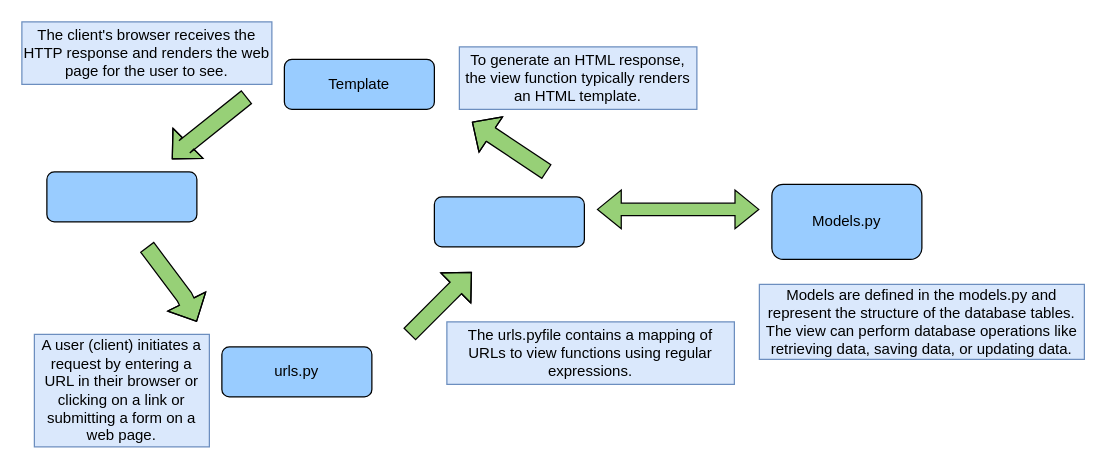
Some shapes in this 1106 by 469 pixel diagram are drawn without their labels. Each missing label, with the centre of its shape:
Client: [121,196]
views.py: [508,221]
